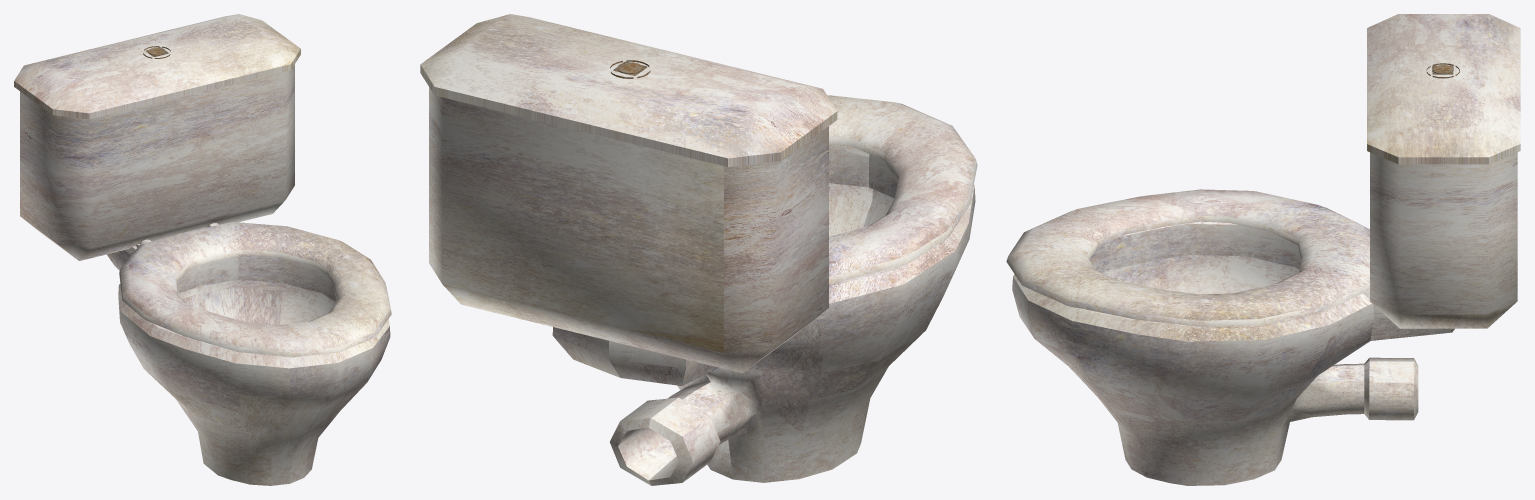
File: Toilet.FBX
The picture shows the model from 3 angles, left to right: view 1: azimuth 30°, elevation 25°; view 2: azimuth 150°, elevation 25°; view 3: azimuth 270°, elevation 25°; orthographic projection. The views are drawn at different scales.
Parts seen in each view (by area): view 1: FIT_Toilet_Toilet, ChamferBox001, Object001; view 2: ChamferBox001, FIT_Toilet_Toilet, Object001; view 3: FIT_Toilet_Toilet, ChamferBox001, Object001.
Boxes of the visible parts, <box> form: FIT_Toilet_Toilet: <box>107,222,391,485</box>; ChamferBox001: <box>20,64,294,260</box>; Object001: <box>14,14,300,119</box>; ChamferBox001: <box>429,87,828,373</box>; FIT_Toilet_Toilet: <box>552,95,977,485</box>; Object001: <box>420,14,837,166</box>; FIT_Toilet_Toilet: <box>1006,189,1454,485</box>; ChamferBox001: <box>1370,152,1517,328</box>; Object001: <box>1367,14,1520,164</box>.
Bounding box in the file's own units: 69.21 × 88.79 × 106.
2 materials, 2 textured.
